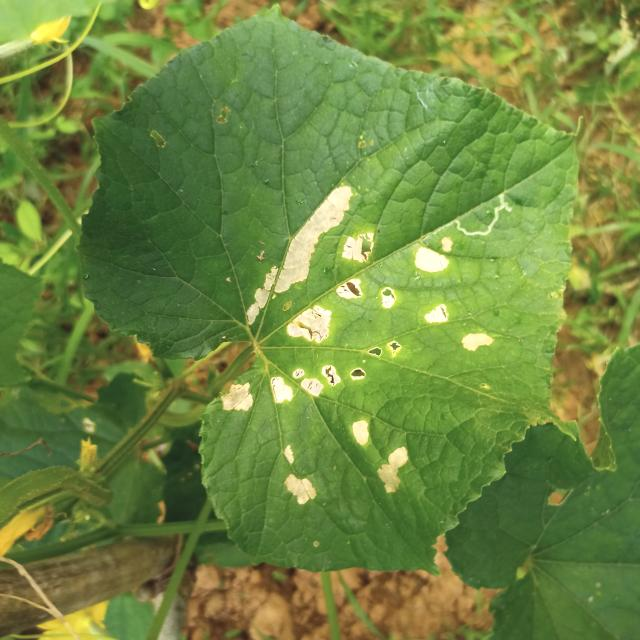disease_cucumber: (242, 184, 376, 344), (380, 236, 506, 370), (218, 335, 407, 414), (277, 413, 420, 507)
